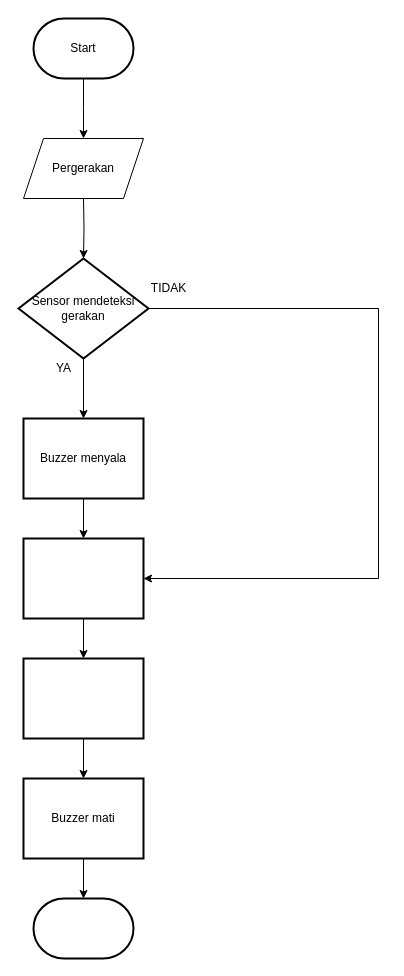
This 404x976 diagram has some shape labels left out. Here are the shapes that lost their labels. From the top down, the centre of each, then its label:
At (83,578): "Data dikirim ke antares".
At (83,698): "Data antares muncul di website".
At (83,928): "END".
